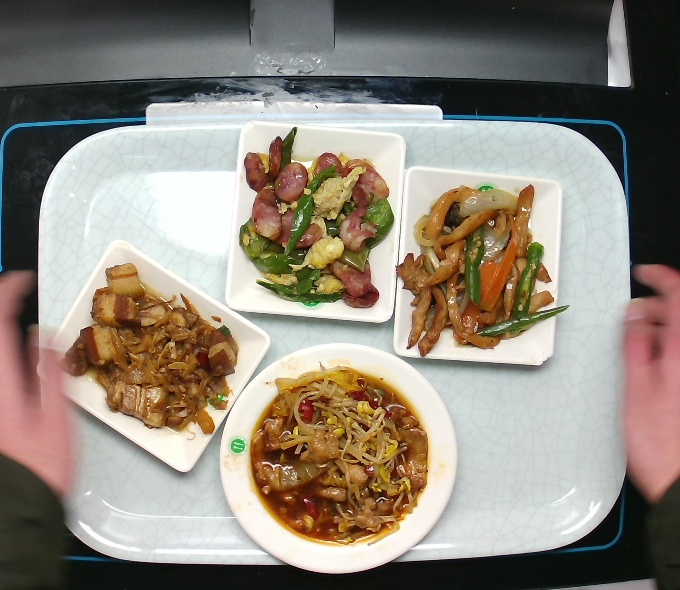wcq-HongShaoRou: (53, 250, 251, 445)
wcq-QingJiaoJiDanChaoDaChang: (234, 123, 398, 314)
wcq-QingJiaoRouSi: (391, 174, 575, 361)
wcq-ShuiZhuRouPian: (238, 353, 439, 561)
